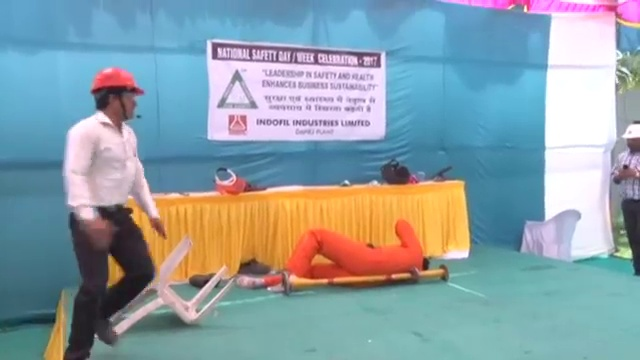helmet: (88, 64, 145, 96), (620, 123, 640, 140)
helmet_on: (87, 64, 145, 125), (621, 123, 640, 157)
person: (59, 63, 167, 360), (233, 218, 432, 289), (611, 121, 640, 278)
